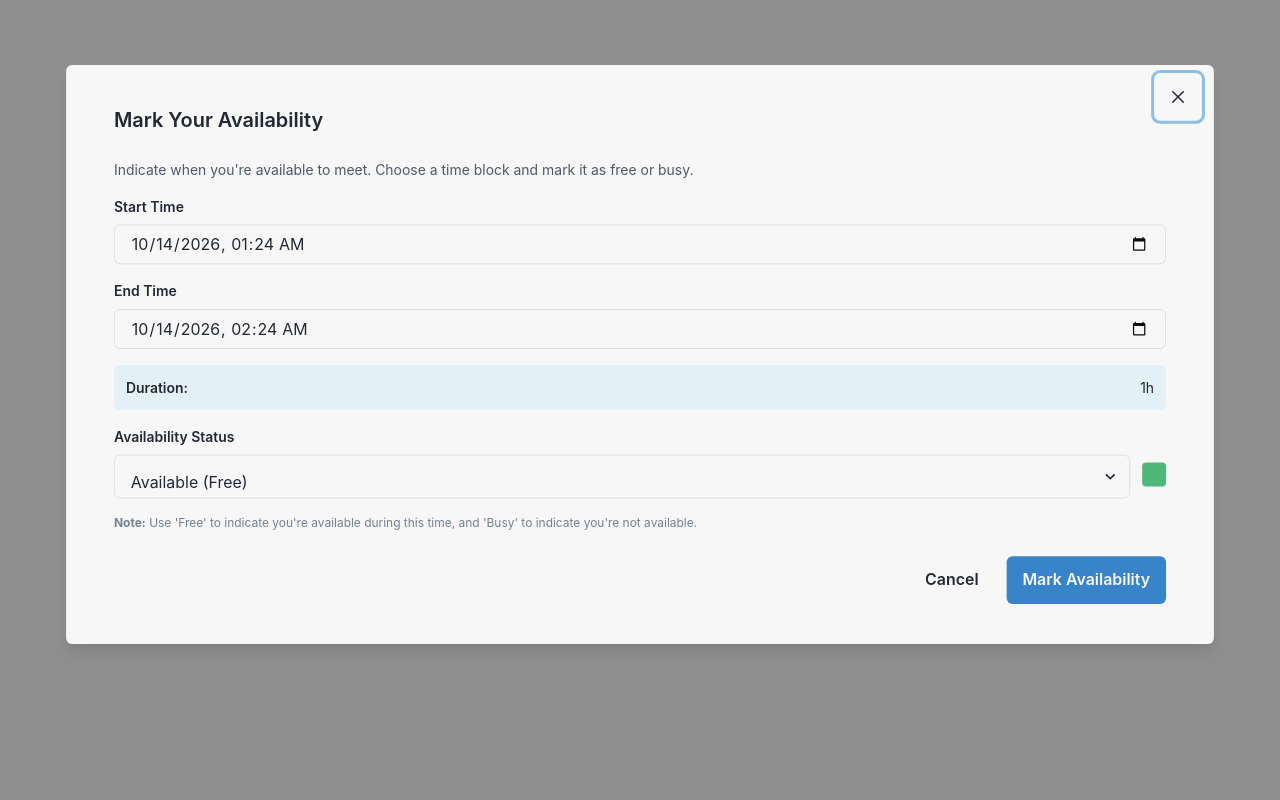
Test: MarkAvailabilityModal - Recurring Features › TC-2: Recurring UI Visibility › TC-2.2: Should show Repeat dropdown only for Busy status
# Change status to Busy
Select "Not Available (Busy)" in the dropdown showing "Available (Free)": (622, 476) x1=114 y1=455 x2=1130 y2=498
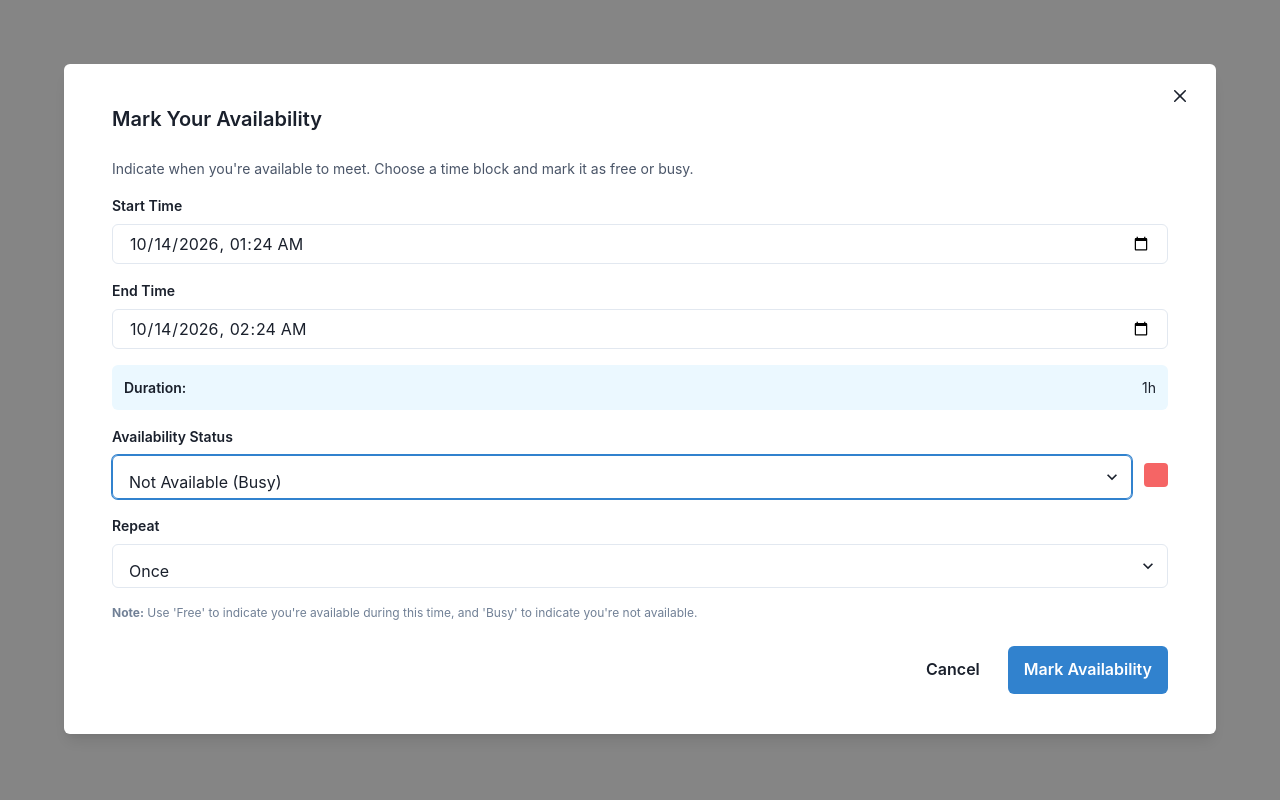
Expected: the text "Repeat" is shown, x1=112 y1=517 x2=159 y2=534
